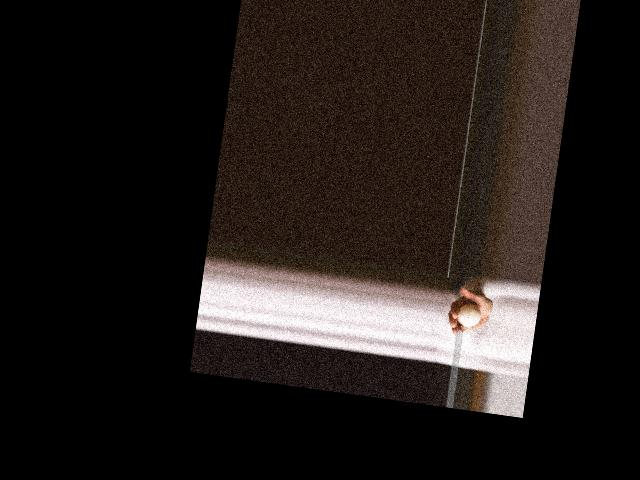egg: (455, 302, 482, 328)
